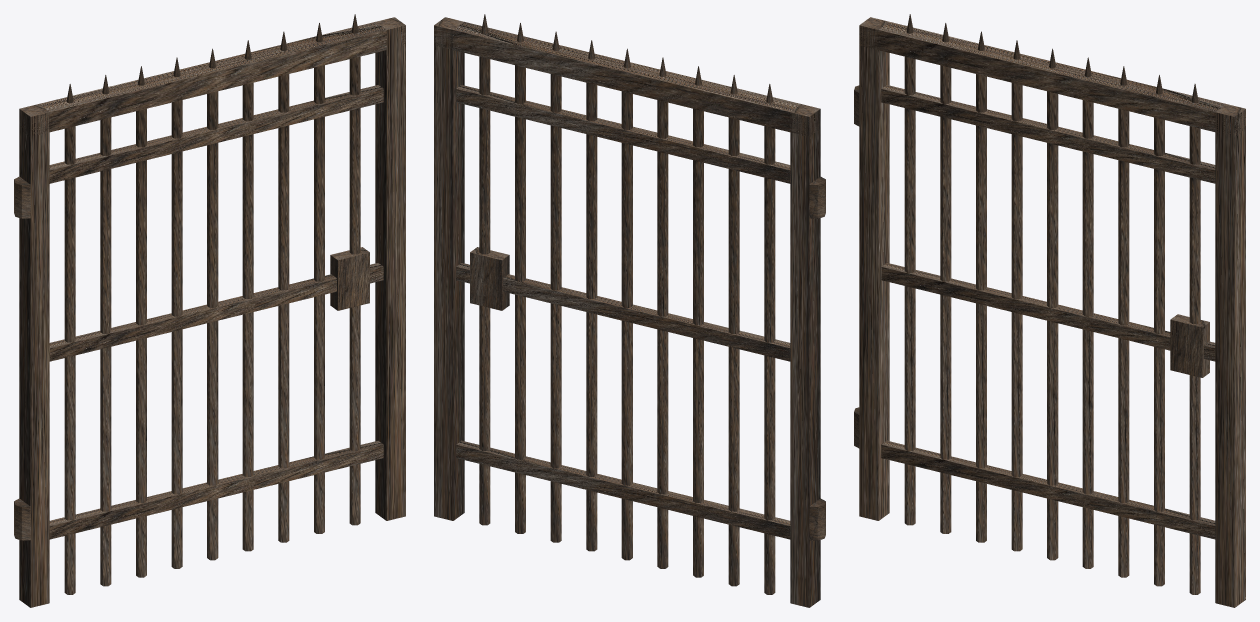
Rendered from barred-gate-v01.glb.
The picture shows the model from 3 angles, left to right: view 1: azimuth 30°, elevation 25°; view 2: azimuth 150°, elevation 25°; view 3: azimuth 330°, elevation 25°; orthographic projection.
Parts seen in each view (by area): view 1: barred-gate; view 2: barred-gate; view 3: barred-gate.
Part boxes in pixels (box(x1,y1,x2,y2)): barred-gate: box(14, 14, 405, 607); barred-gate: box(434, 14, 825, 607); barred-gate: box(854, 14, 1245, 607).
Bounding box in the file's own units: 2.38 × 3.01 × 0.12.
Materials: 2 (2 with a texture image).
